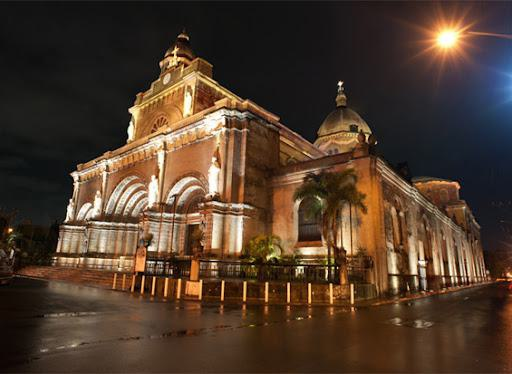manila_cathedral_church_intramuros_manila: (57, 28, 390, 305)
